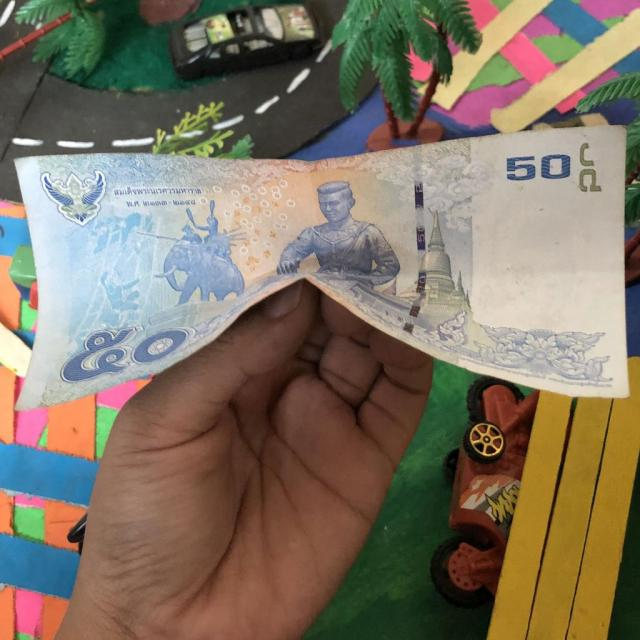THAI50: (16, 127, 628, 410)
